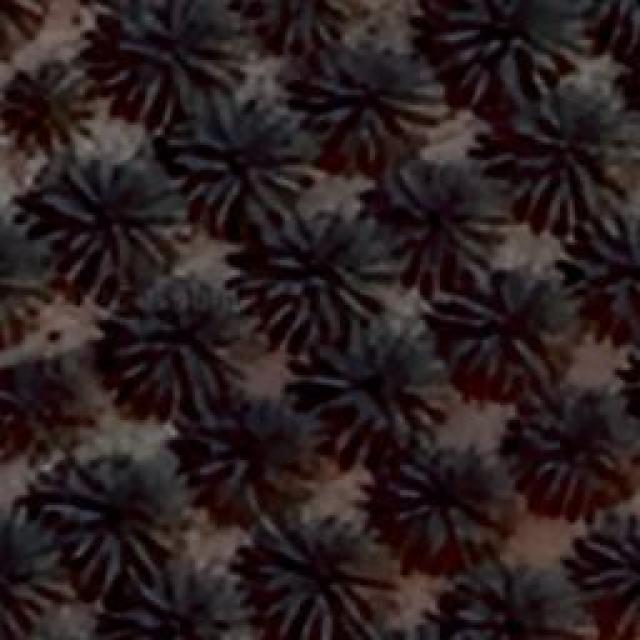PalmTree: (23, 27, 611, 279), (248, 202, 400, 348), (110, 277, 258, 415), (502, 85, 632, 233), (40, 155, 190, 275), (102, 0, 248, 118), (440, 260, 575, 385), (245, 512, 378, 638), (432, 0, 590, 105), (305, 34, 445, 148), (315, 330, 450, 445), (510, 380, 632, 500), (175, 106, 303, 219), (388, 438, 508, 552), (52, 465, 170, 580), (390, 165, 505, 280), (202, 411, 312, 521), (448, 555, 582, 635), (115, 562, 240, 640), (0, 55, 100, 150), (575, 512, 640, 640), (4, 365, 94, 455), (0, 510, 70, 625), (0, 228, 58, 342), (252, 0, 352, 55), (332, 620, 457, 640), (579, 0, 640, 40), (328, 624, 459, 640), (337, 624, 465, 640), (629, 327, 640, 436)
